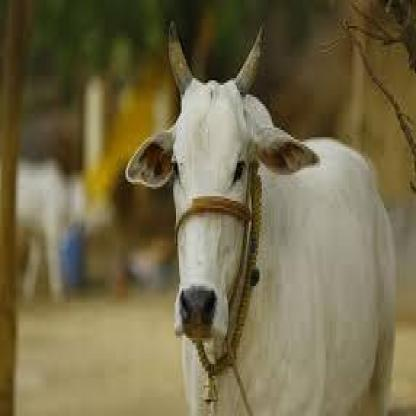cow: (126, 80, 396, 416)
